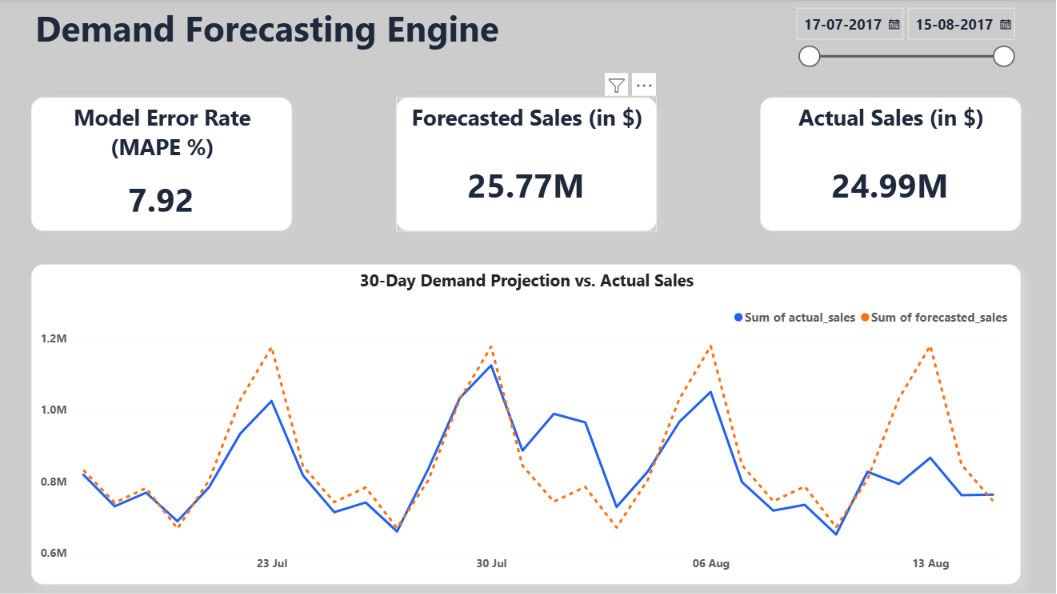

What the dashboard file says about the page in this screenshot:
{"tool":"powerbi","page":{"name":"Model Validation","canvas":[1280,720],"ordinal":0},"visuals":[{"type":"textbox","box":[42.5,0,572.2,87.8],"z":0},{"type":"slicer","fields":{"Values":["forecast_results.date"]},"box":[953.1,0,284,87.8],"z":1000},{"type":"cardVisual","title":"Model Error Rate (MAPE %)","fields":{"Data":["Avg(forecast_results.error_pct)"]},"box":[42.2,118.2,314.9,161.7],"z":2000},{"type":"cardVisual","title":"Forecasted Sales (in $)","fields":{"Data":["Sum(forecast_results.forecasted_sales)"]},"box":[482.6,118.2,314.9,161.7],"z":3000},{"type":"cardVisual","title":"Actual Sales (in $)","fields":{"Data":["Sum(forecast_results.actual_sales)"]},"box":[921.7,118.2,314.9,161.7],"z":4000},{"type":"lineChart","title":"30-Day Demand Projection vs. Actual Sales","fields":{"Y":["Sum(forecast_results.actual_sales)","Sum(forecast_results.forecasted_sales)"],"Category":["forecast_results.date"]},"box":[42.2,319.7,1194.4,386.1],"z":5000}]}

Visuals, with their boxes in screenshot pixels (x1, y1, x2, y2), scaled from the page's 1280x720 canvas onto the 1057x594 screenshot:
textbox: pyautogui.locateOnScreen(35, 0, 508, 72)
slicer - forecast_results.date: pyautogui.locateOnScreen(787, 0, 1022, 72)
"Model Error Rate (MAPE %)" cardVisual: pyautogui.locateOnScreen(35, 98, 295, 231)
"Forecasted Sales (in $)" cardVisual: pyautogui.locateOnScreen(399, 98, 659, 231)
"Actual Sales (in $)" cardVisual: pyautogui.locateOnScreen(761, 98, 1021, 231)
"30-Day Demand Projection vs. Actual Sales" lineChart: pyautogui.locateOnScreen(35, 264, 1021, 582)
